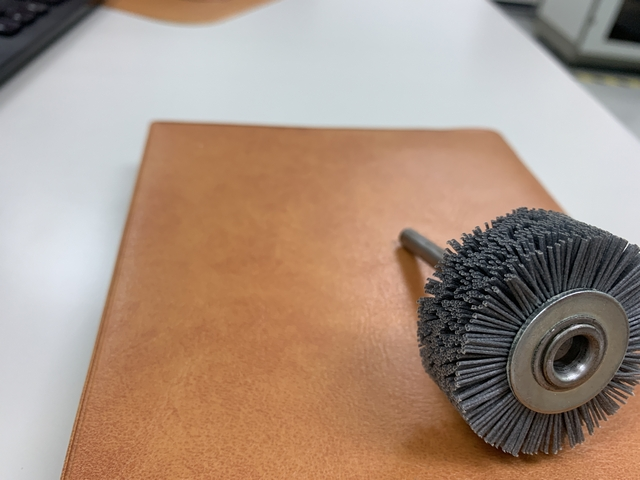Wheel Brush: (342, 190, 632, 428), (386, 206, 640, 465)
